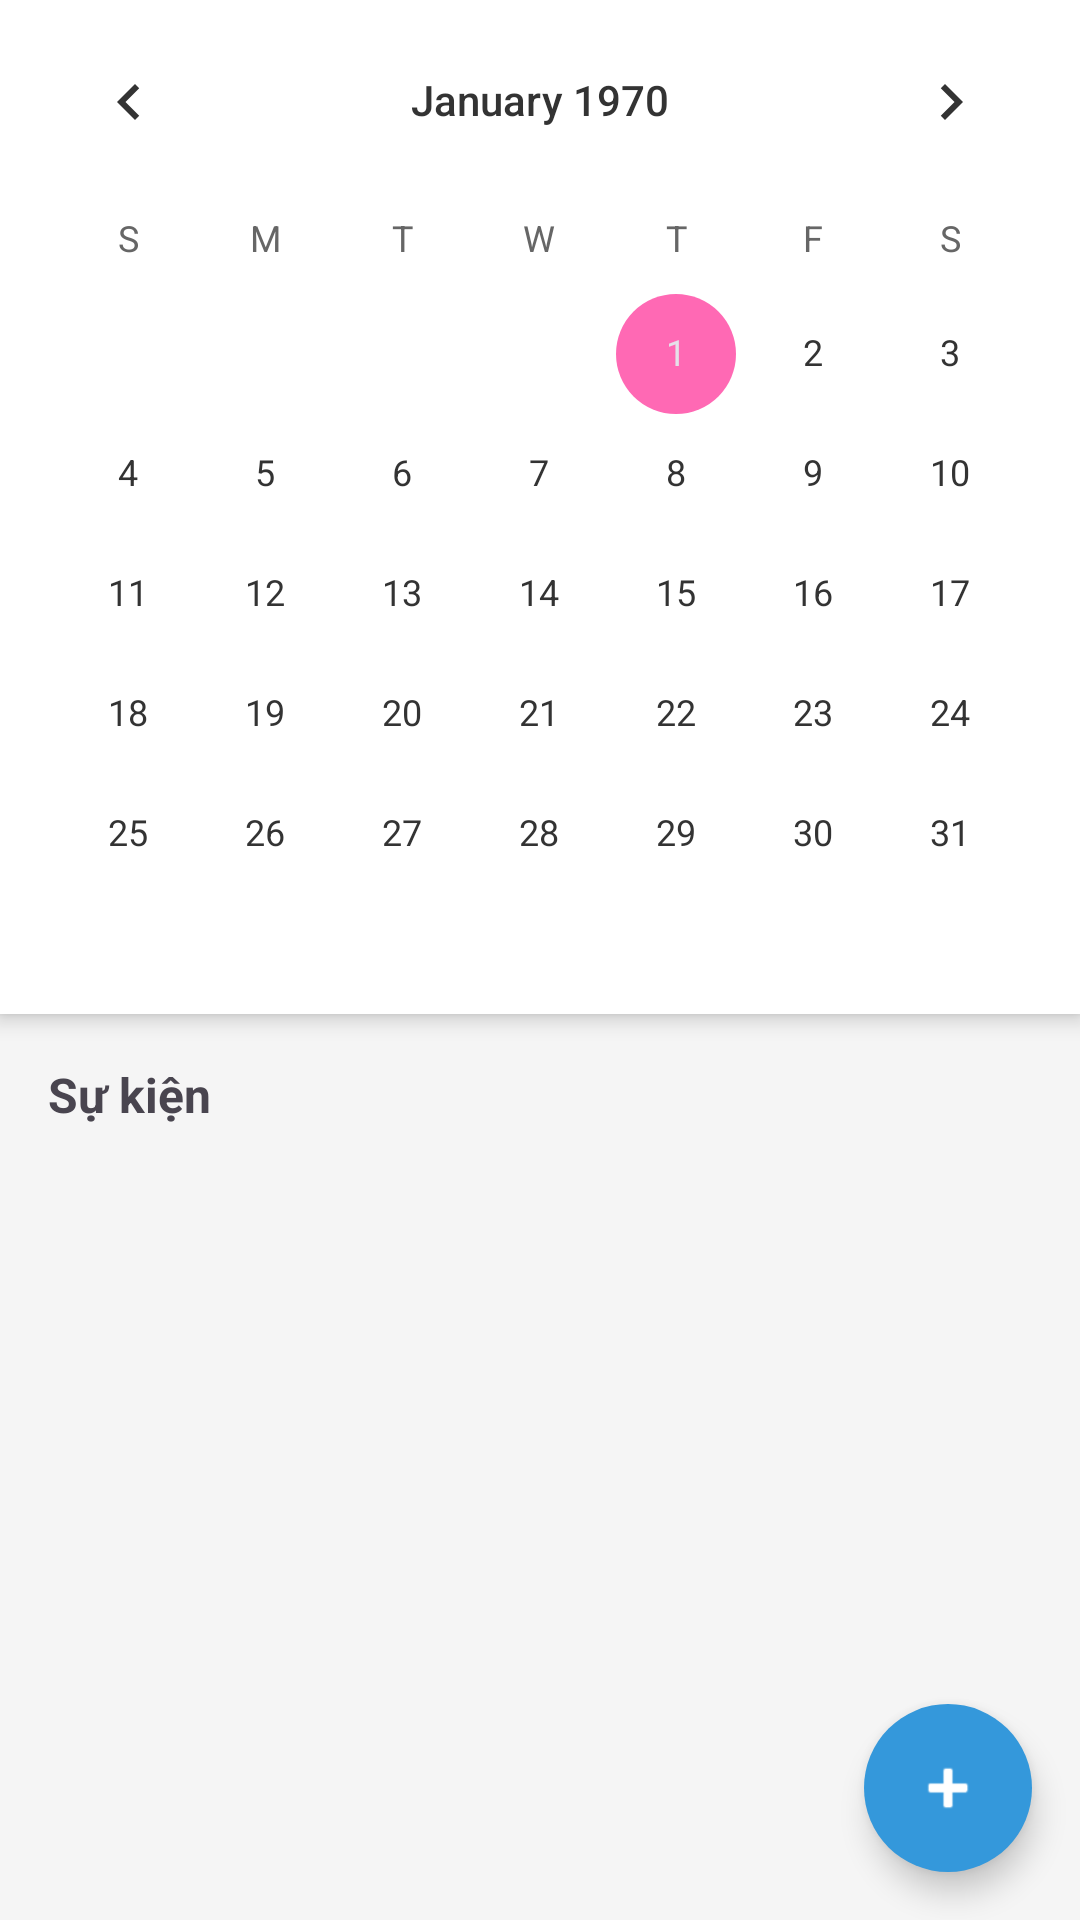

Point at icon controls on the screen. Image size 1080 x 1920, points as [x,y].
Thêm sự kiện mới: [948,1788]
